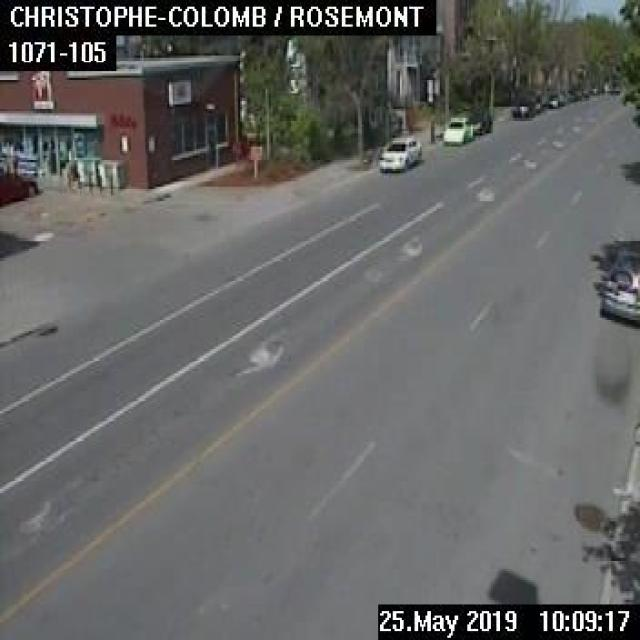vehicle: (598, 246, 638, 320), (378, 135, 420, 172), (442, 116, 472, 144), (468, 107, 492, 133), (511, 96, 533, 116), (546, 93, 560, 106)
